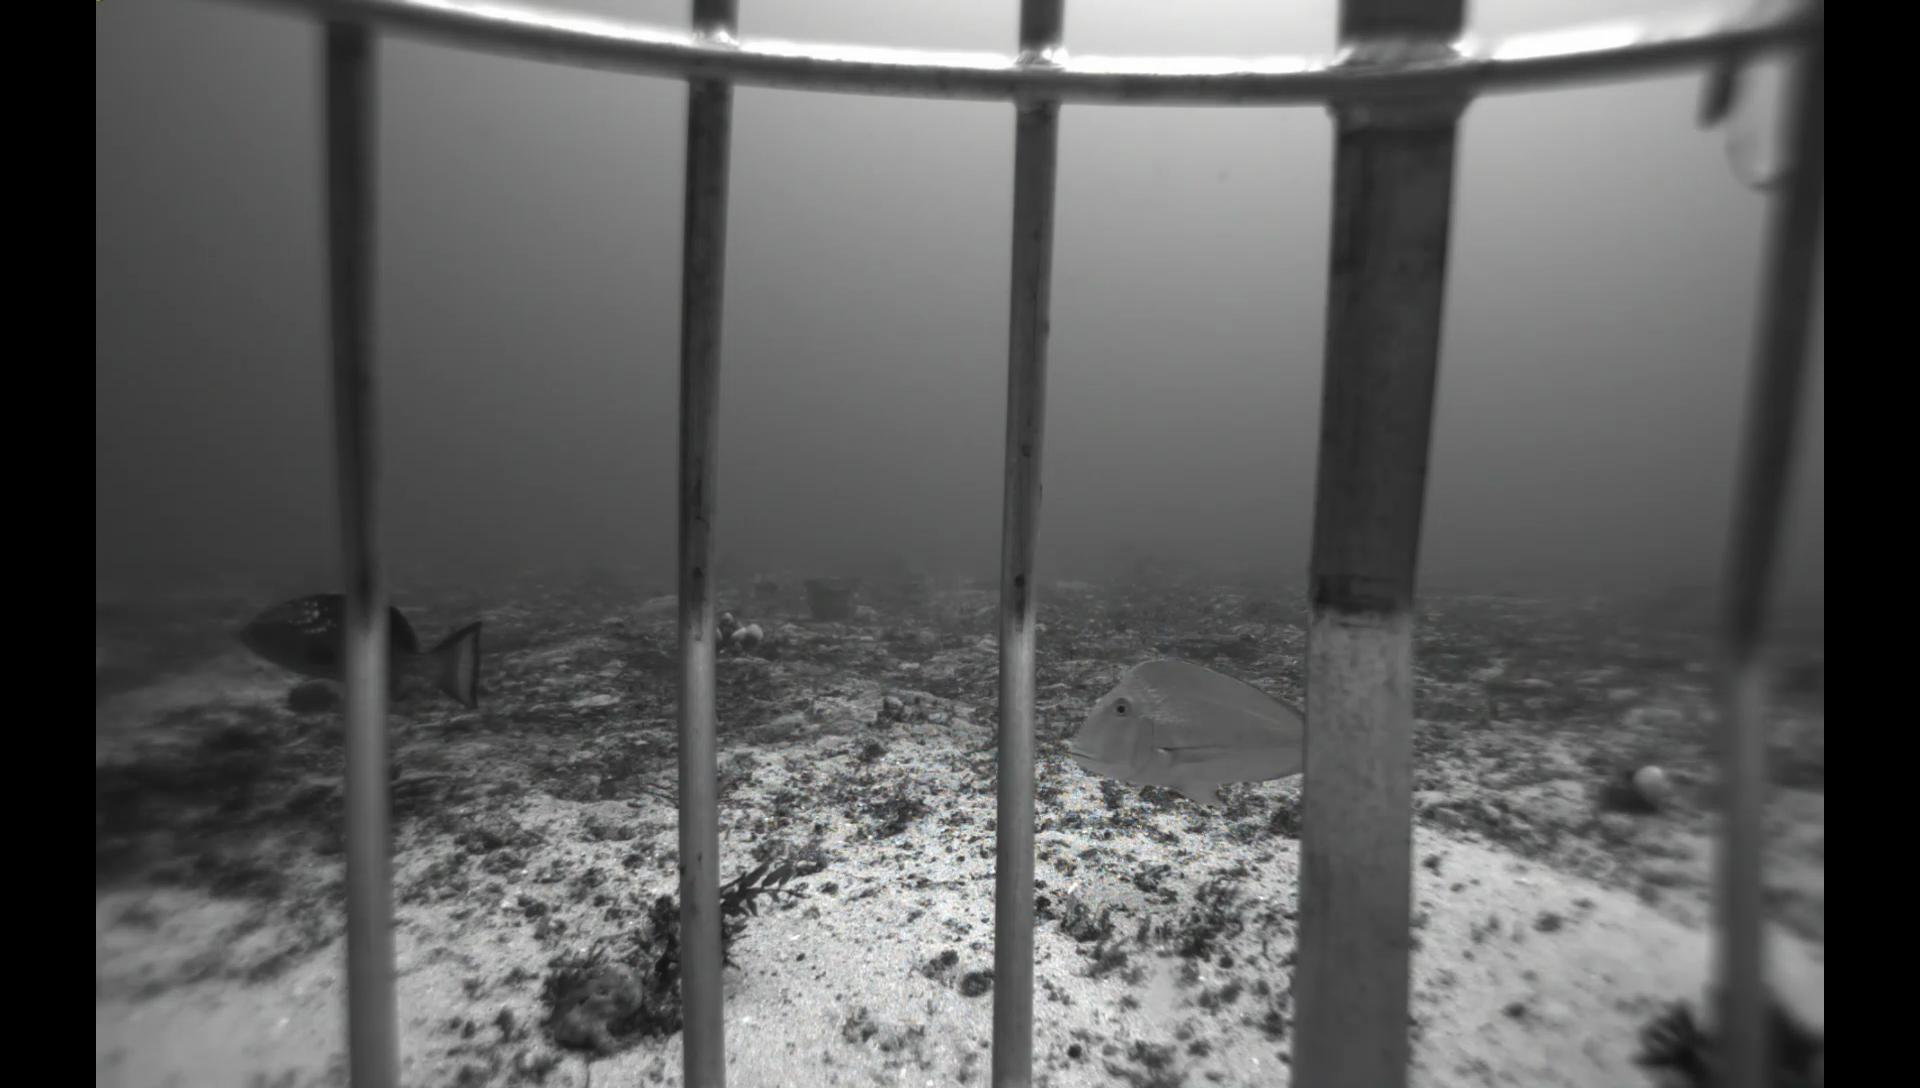CALAMUSNODOSUS-170210608: (1058, 646, 1302, 818)
CHAETODONOCELLATUS-170260307: (913, 574, 940, 592), (744, 570, 767, 586)
EPINEPHELUSMORIO-170021211: (223, 576, 495, 720)
PRISTIGENYSALTA-170050401: (276, 678, 345, 717)
